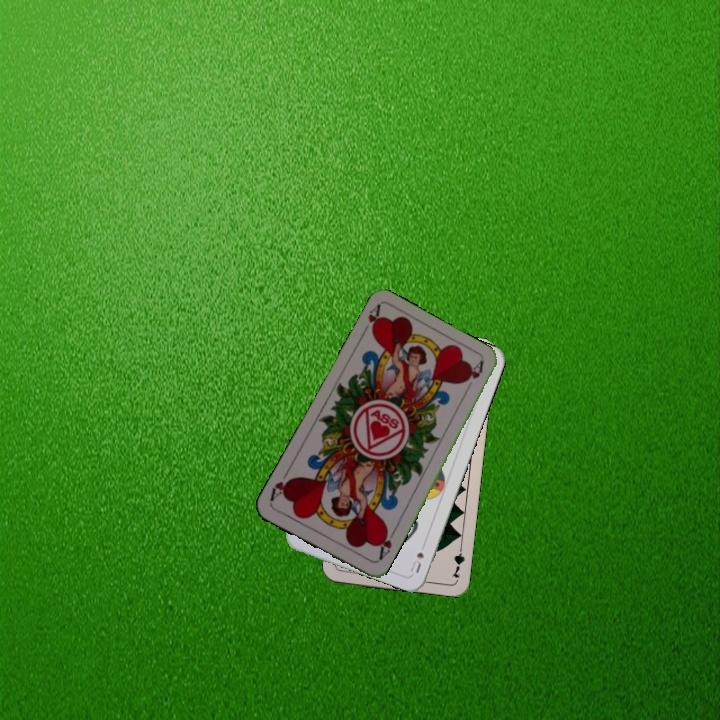G7: (448, 540, 467, 580)
HA: (357, 301, 384, 339), (374, 524, 398, 564)
SU: (406, 548, 427, 576)
